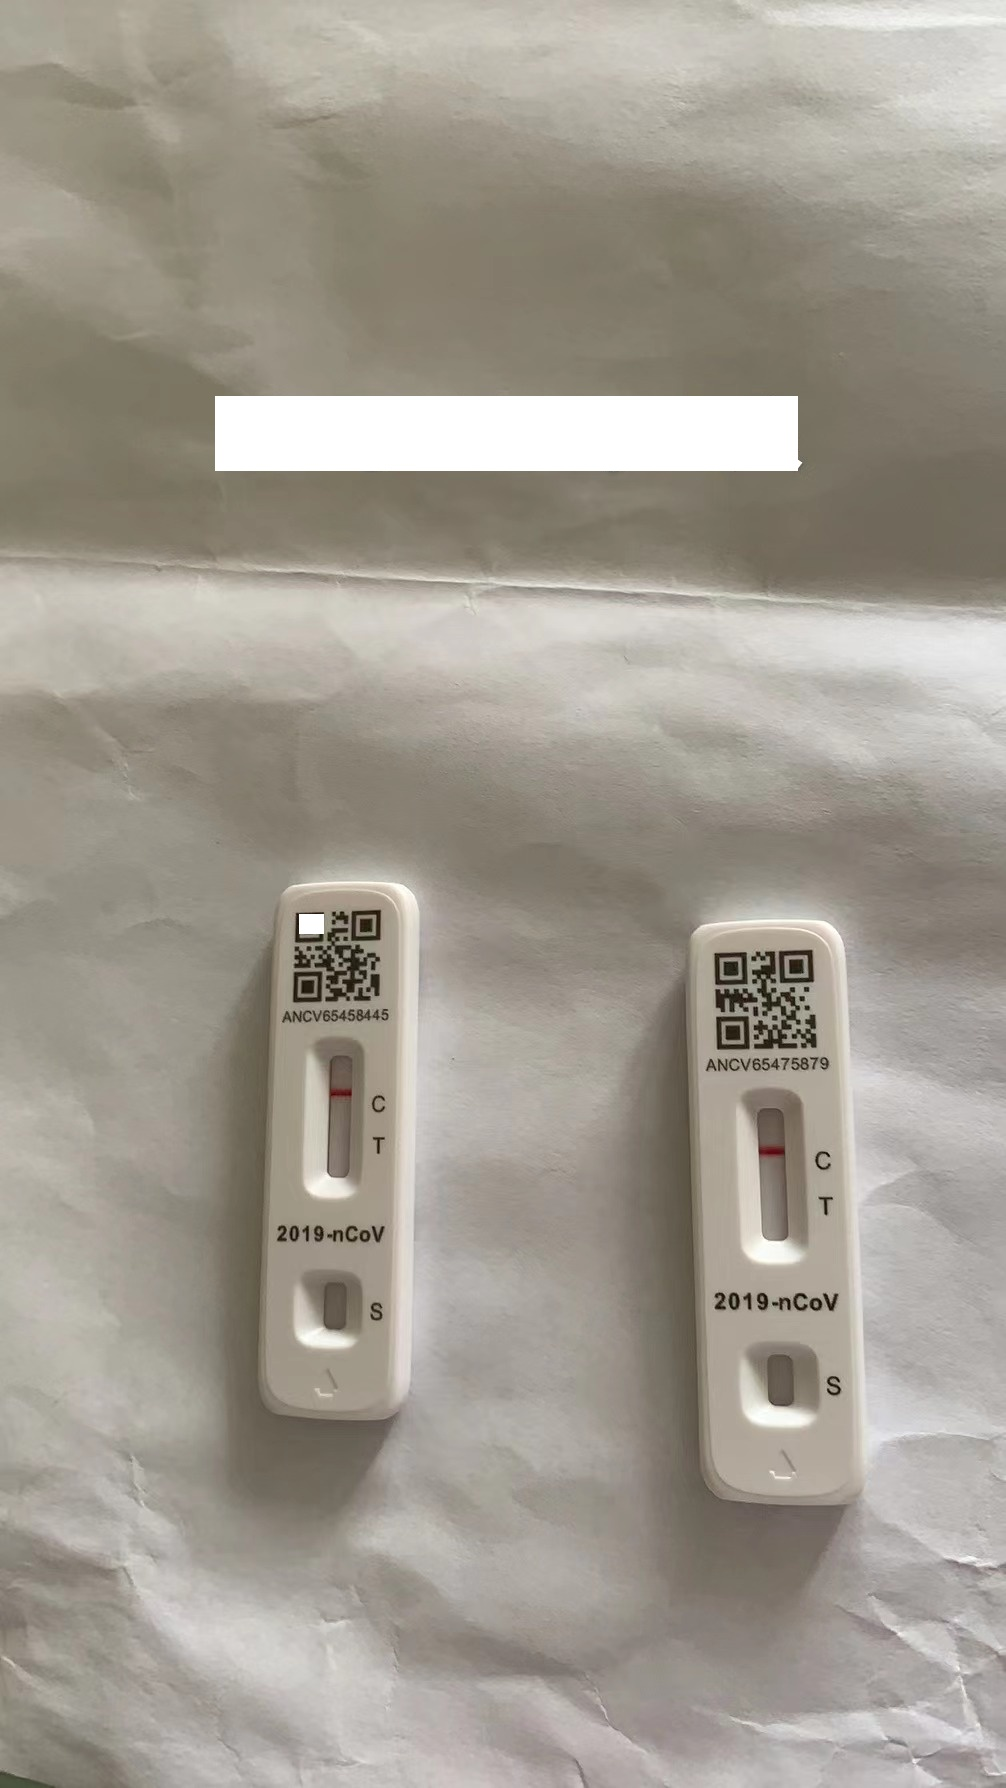negative: (739, 1089, 809, 1264), (306, 1035, 364, 1195)
